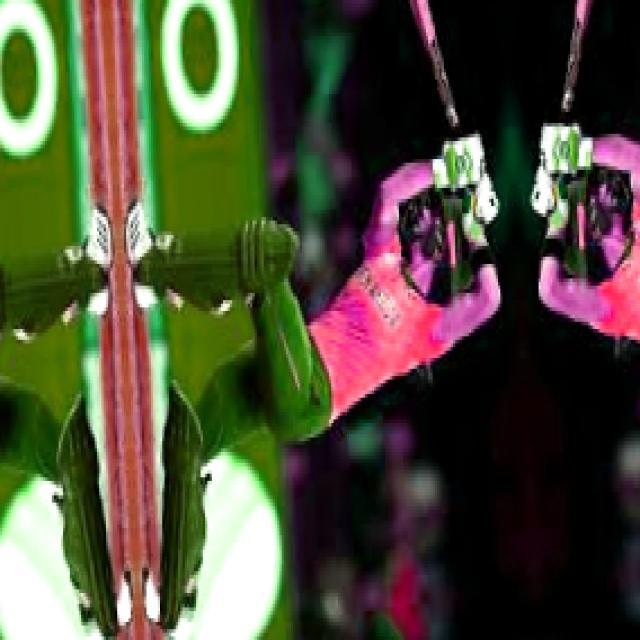bat: (408, 0, 480, 149)
